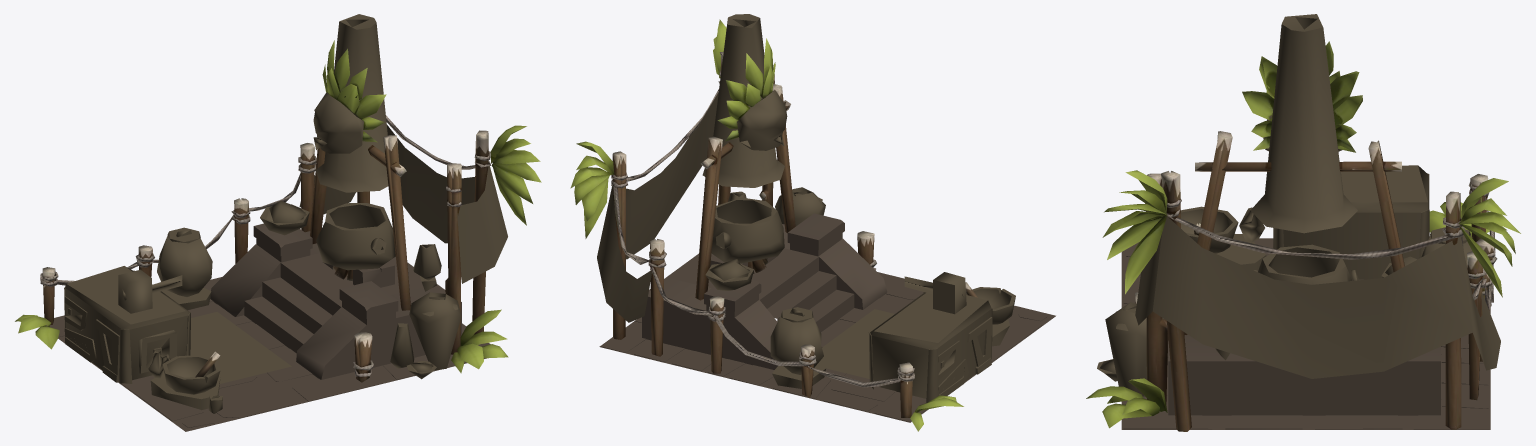
Rendered from aztec-shrine.lod0.glb.
The picture shows the model from 3 angles, left to right: view 1: azimuth 30°, elevation 25°; view 2: azimuth 150°, elevation 25°; view 3: azimuth 270°, elevation 25°; orthographic projection. The views are drawn at different scales.
Visible parts, largest first — view 1: Box001_mekan_grup_02_0, Cylinder021_mekan_grup_01_0; view 2: Box001_mekan_grup_02_0, Cylinder021_mekan_grup_01_0; view 3: Box001_mekan_grup_02_0, Cylinder021_mekan_grup_01_0.
Part boxes in pixels (bbox=[...]): Box001_mekan_grup_02_0: bbox=[46, 14, 507, 431]; Cylinder021_mekan_grup_01_0: bbox=[15, 40, 541, 382]; Box001_mekan_grup_02_0: bbox=[597, 14, 1055, 422]; Cylinder021_mekan_grup_01_0: bbox=[570, 19, 977, 431]; Box001_mekan_grup_02_0: bbox=[1097, 14, 1500, 429]; Cylinder021_mekan_grup_01_0: bbox=[1086, 41, 1520, 431].
Bounding box in the file's own units: 4.98 × 3.75 × 3.97.
Materials: 2 (1 with a texture image).
